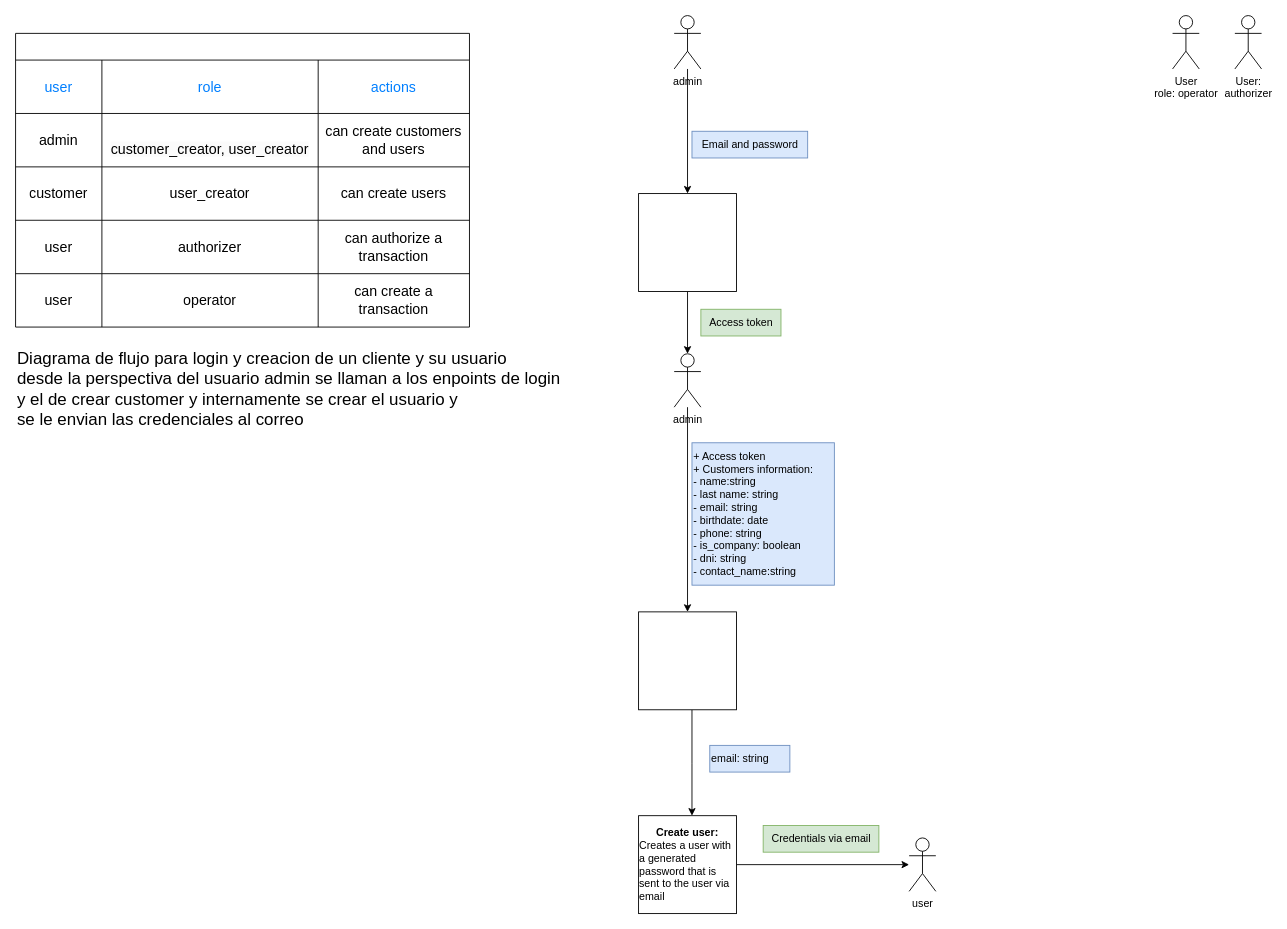
This 1287x929 diagram has some shape labels left out. Here are the shapes that lost their labels. From the top down, the box of each, then its label:
(15, 32, 469, 327): Roles
(638, 193, 736, 291): Login
(638, 611, 736, 710): Create customer: Stores the customer and call create user
